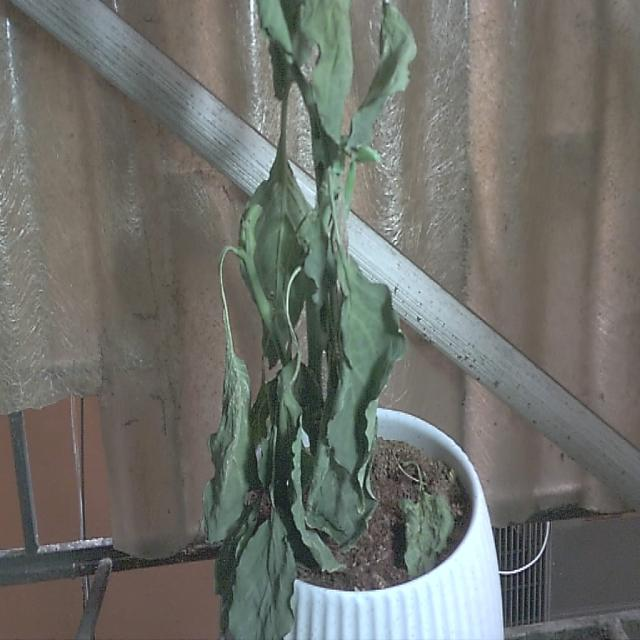Leaf: (329, 252, 406, 502), (203, 346, 255, 540), (303, 0, 359, 155), (225, 513, 292, 640)
